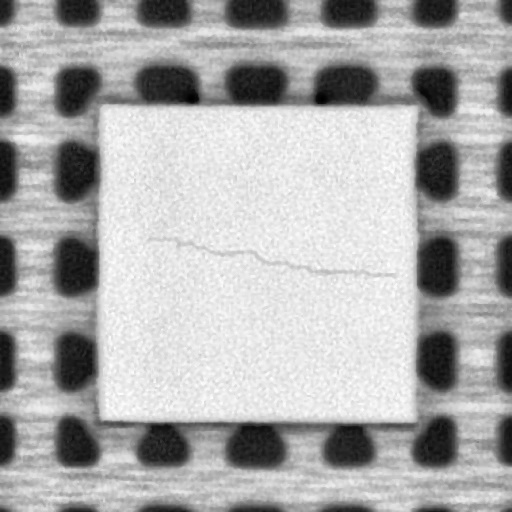DIE_CRACK: (144, 230, 398, 280)
